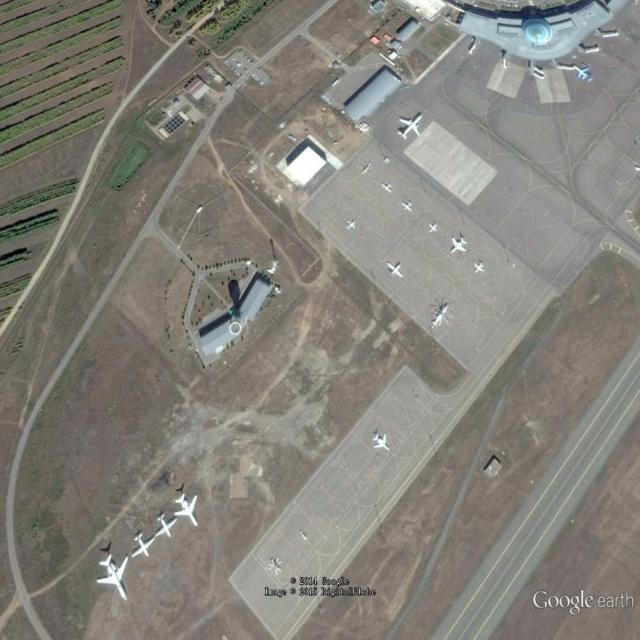aircraft: (96, 554, 130, 603), (174, 490, 202, 529), (398, 112, 426, 142), (155, 511, 180, 539), (132, 530, 156, 559), (573, 63, 596, 85), (373, 431, 394, 454), (450, 233, 469, 257), (386, 261, 406, 282), (401, 200, 414, 214), (474, 261, 487, 275), (381, 181, 394, 194), (428, 222, 441, 235), (346, 219, 359, 232)
